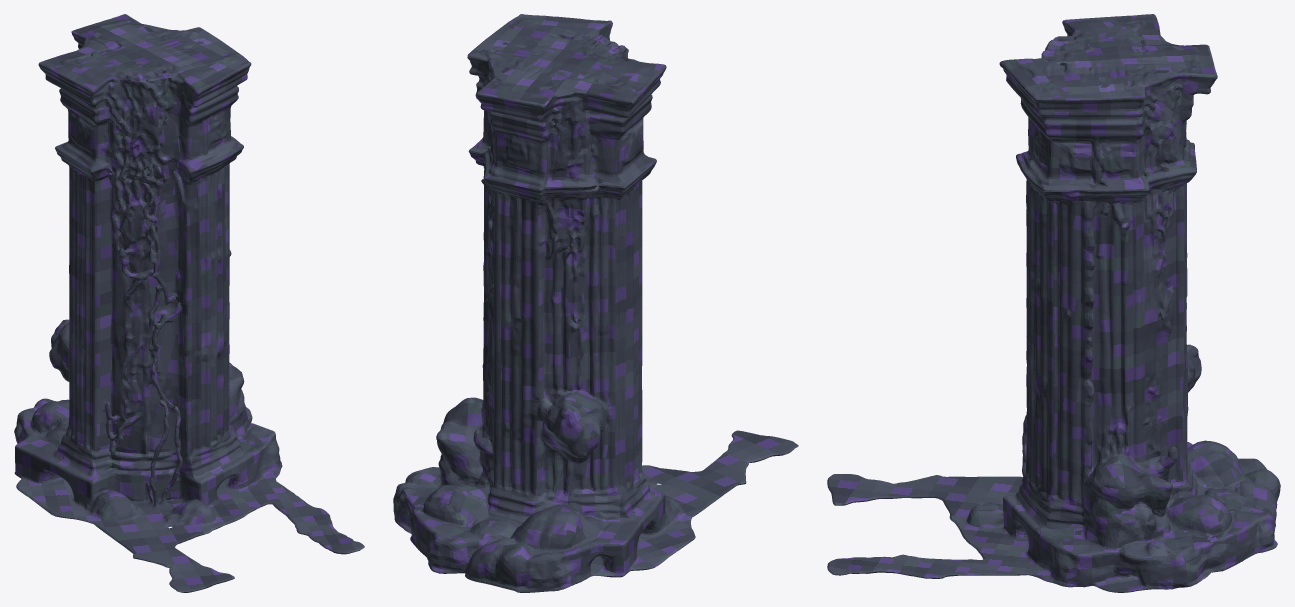
Rendered from weathered-monolith-pillar-generated-2026-04-19T23-51-13-313Z.glb.
The picture shows the model from 3 angles, left to right: view 1: azimuth 30°, elevation 25°; view 2: azimuth 150°, elevation 25°; view 3: azimuth 270°, elevation 25°; orthographic projection. The views are drawn at different scales.
Parts seen in each view (by area): view 1: temp_mesh.ply; view 2: temp_mesh.ply; view 3: temp_mesh.ply.
Boxes of the visible parts, x1=… form: temp_mesh.ply: x1=14, y1=14, x2=364, y2=592; temp_mesh.ply: x1=393, y1=14, x2=798, y2=592; temp_mesh.ply: x1=827, y1=14, x2=1280, y2=592.
Bounding box in the file's own units: 1.14 × 1.97 × 1.73.
Materials: 1 (1 with a texture image).
